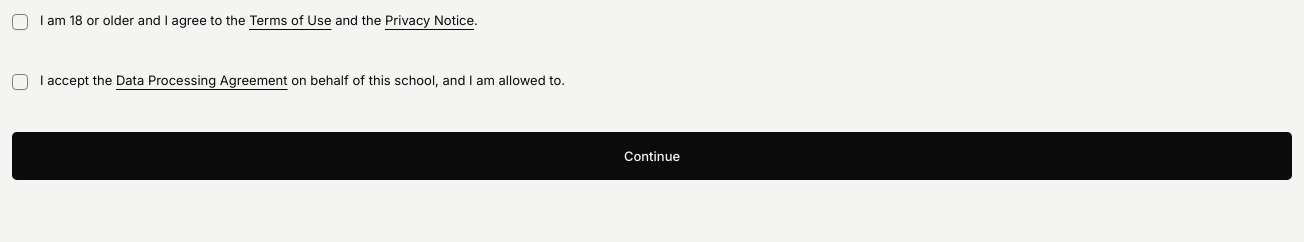
Scenario: AcceptForm (D-115) › says why and sends nothing while a box is unticked
The width and height of the screenshot is (1304, 242).
Click the button "Continue": [652, 156] box [12, 132, 1292, 180]
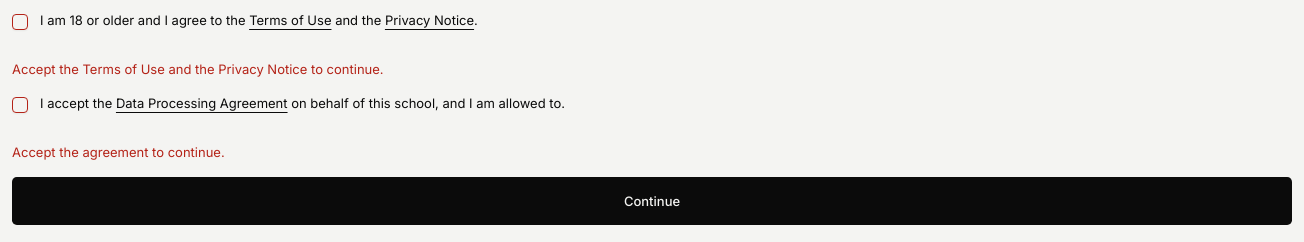
Result: the text "Accept the Terms of Use and the Privacy Notice to continue." is shown at [12, 61, 384, 77]
Result: the text "Accept the agreement to continue." is shown at [12, 144, 225, 160]
